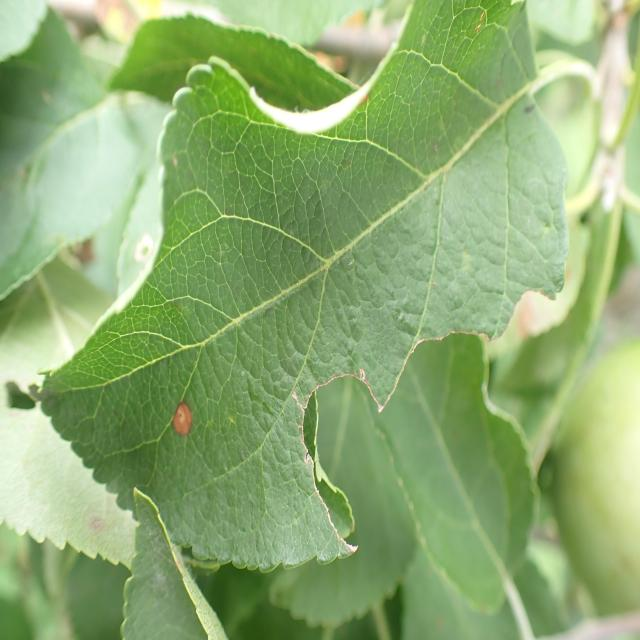Black Rot: (295, 288, 566, 560), (158, 378, 205, 446)
